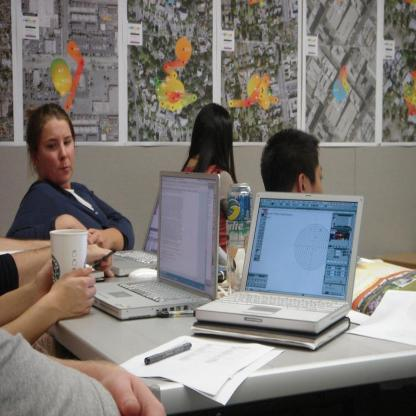board: (198, 192, 360, 348), (92, 172, 220, 319), (110, 192, 158, 278), (51, 227, 91, 288), (227, 183, 251, 246)
